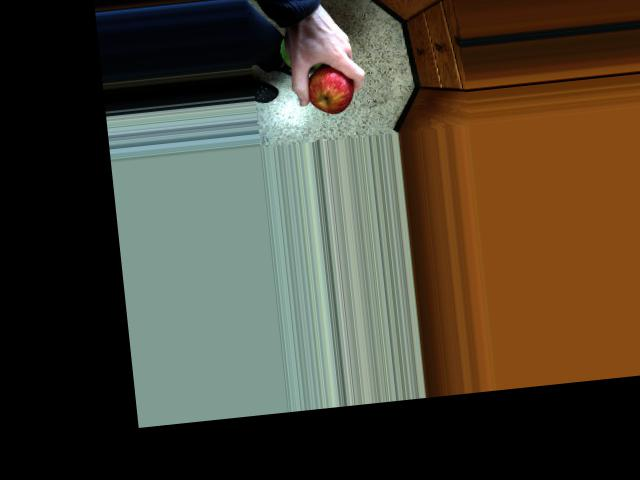apple: (297, 55, 359, 118)
